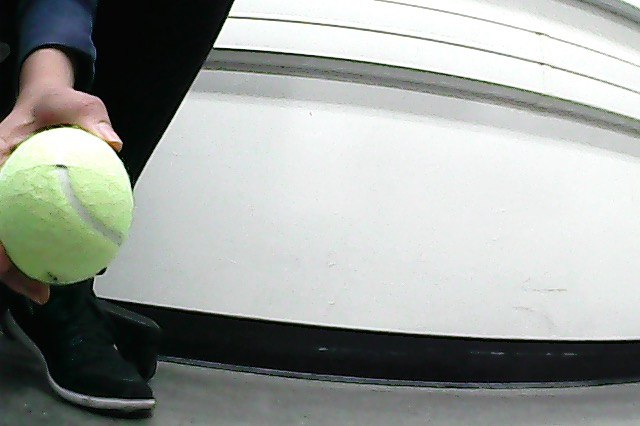ball: (1, 129, 135, 285)
